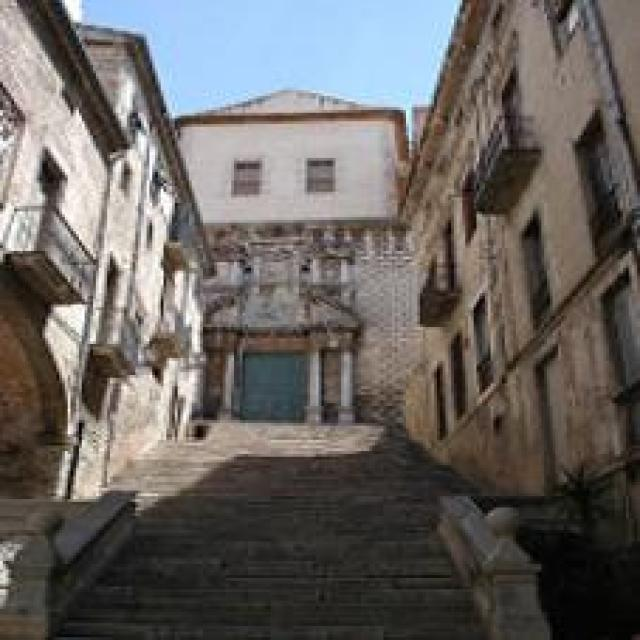upstair: (86, 413, 489, 630)
